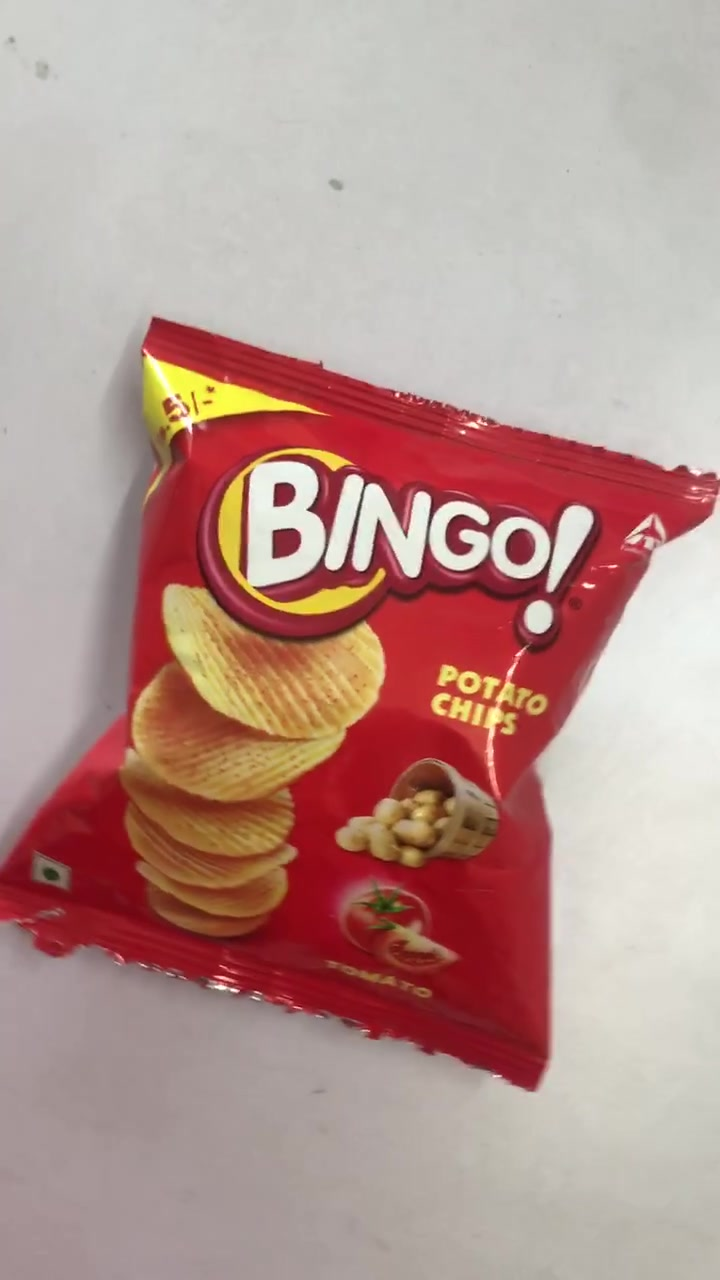Bingo: (9, 317, 720, 1077)
